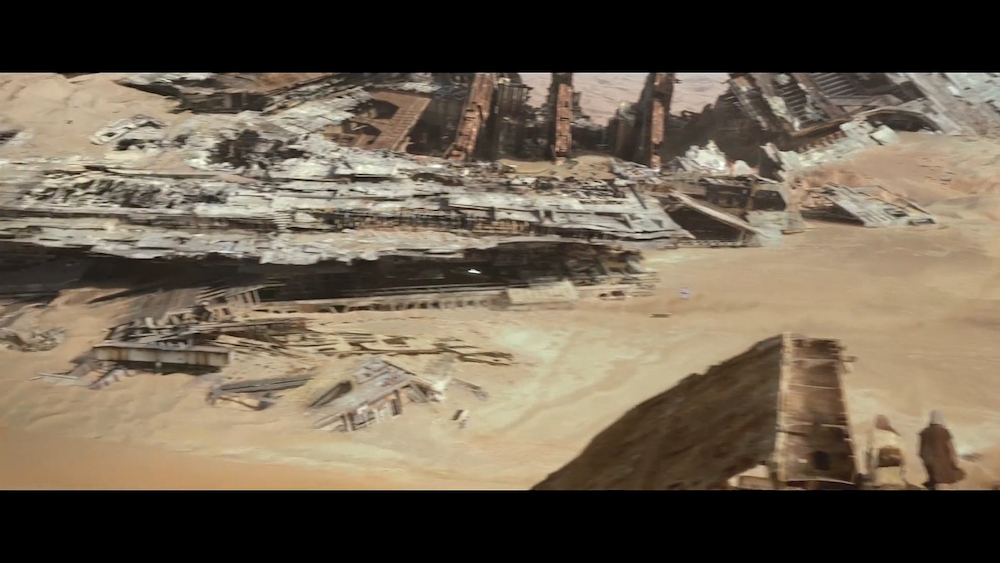Tie Fighter: (679, 287, 691, 300)
